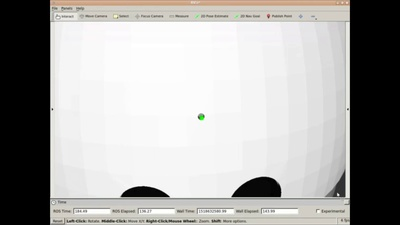mira_robot: (56, 22, 346, 198)
